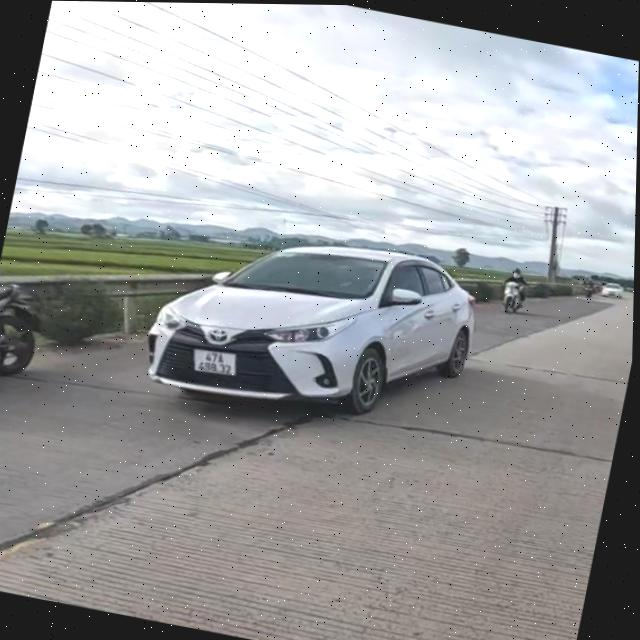car: (137, 205, 491, 448)
motorcycle: (491, 276, 530, 313)
plate: (186, 342, 243, 381)
